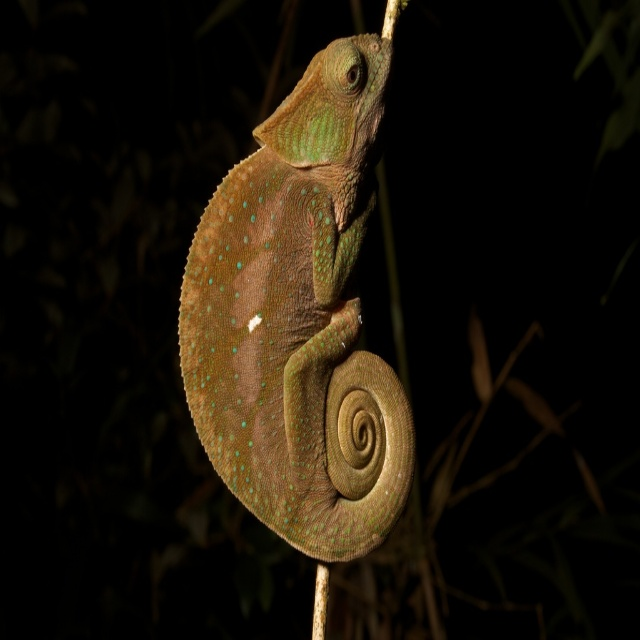Lizard: (178, 2, 409, 571)
